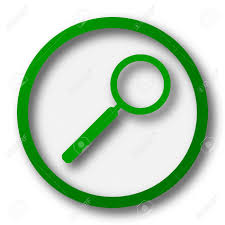searchIcon: (59, 52, 173, 166)
